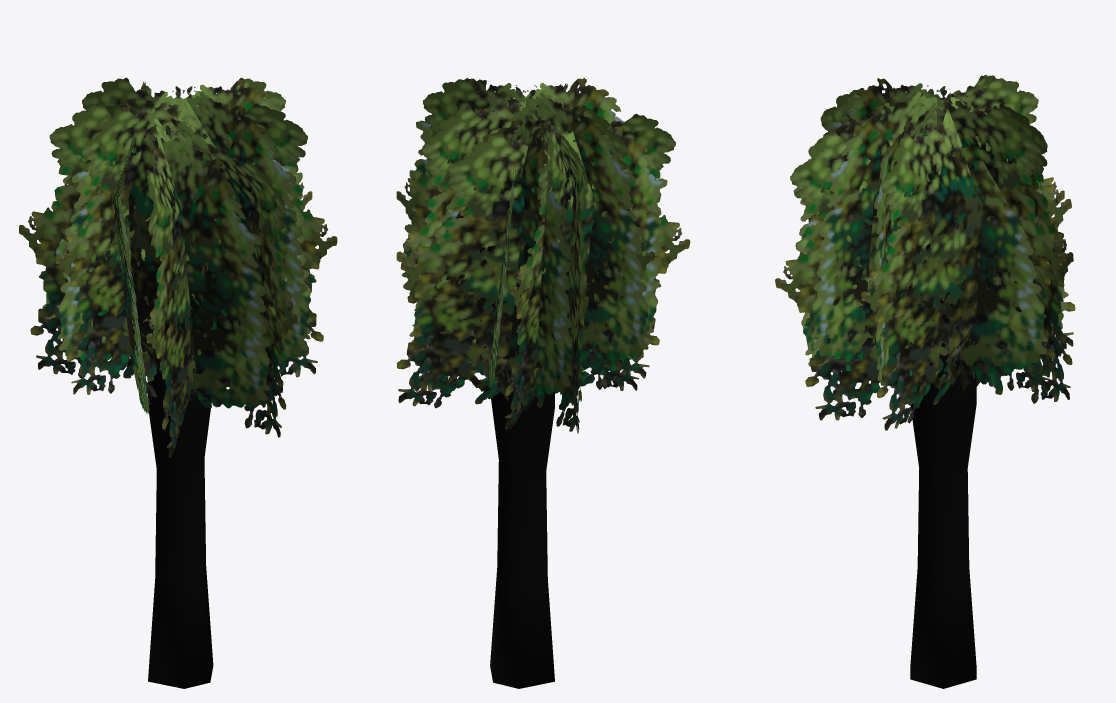
File: tree_01b_ds.fbx
The picture shows the model from 3 angles, left to right: view 1: azimuth 30°, elevation 25°; view 2: azimuth 150°, elevation 25°; view 3: azimuth 270°, elevation 25°; orthographic projection.
Parts seen in each view (by area): view 1: tree_01b_ds; view 2: tree_01b_ds; view 3: tree_01b_ds.
Part boxes in pixels (x1=…): tree_01b_ds: x1=19, y1=77, x2=337, y2=688; tree_01b_ds: x1=396, y1=78, x2=690, y2=688; tree_01b_ds: x1=775, y1=75, x2=1075, y2=688.
Size of the model in its own units: 3.9 by 8.41 by 4.55.
